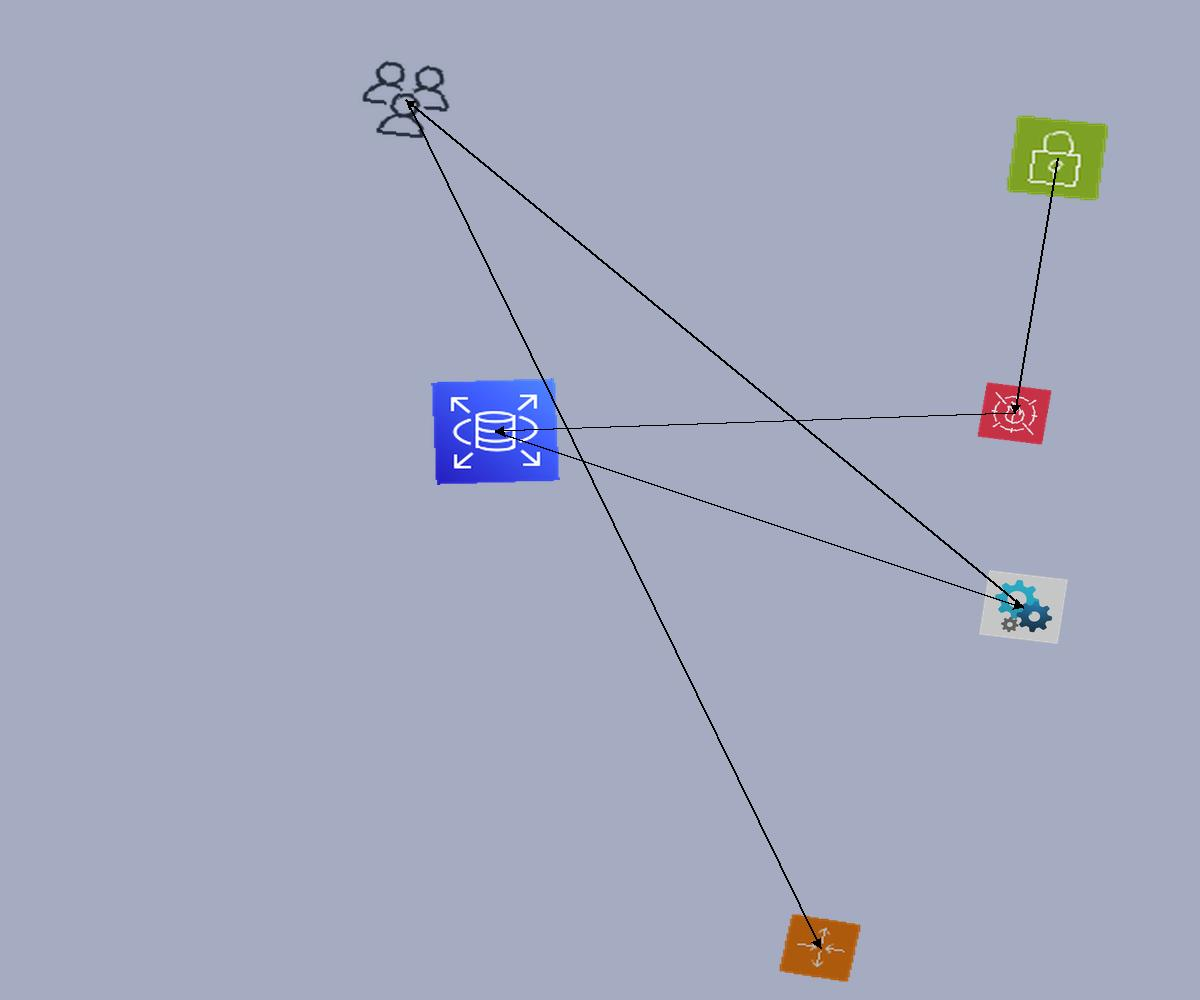AWS-Public-subnet: (1005, 114, 1110, 202)
AWS-RDS: (431, 378, 560, 485)
AWS-Res_Users: (351, 54, 461, 146)
AWS-Scaling-group: (778, 913, 862, 983)
AWS-WAF: (977, 382, 1052, 445)
Azure_api: (979, 570, 1068, 644)
